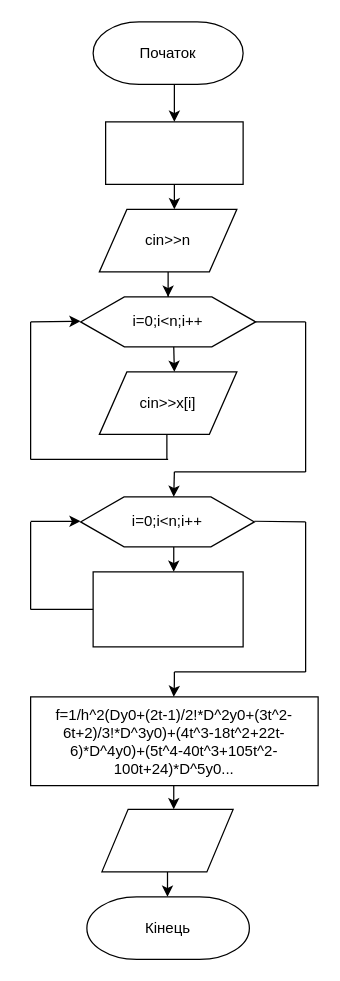
This 340x981 diagram has some shape labels left out. Each missing label, with the centre of its shape:
cout <<t: (167,840)
Float n, x[i],y[n],f=0: (173,152)
y[i][0]=x[i]/(4*x[i]^3+3): (167,609)
